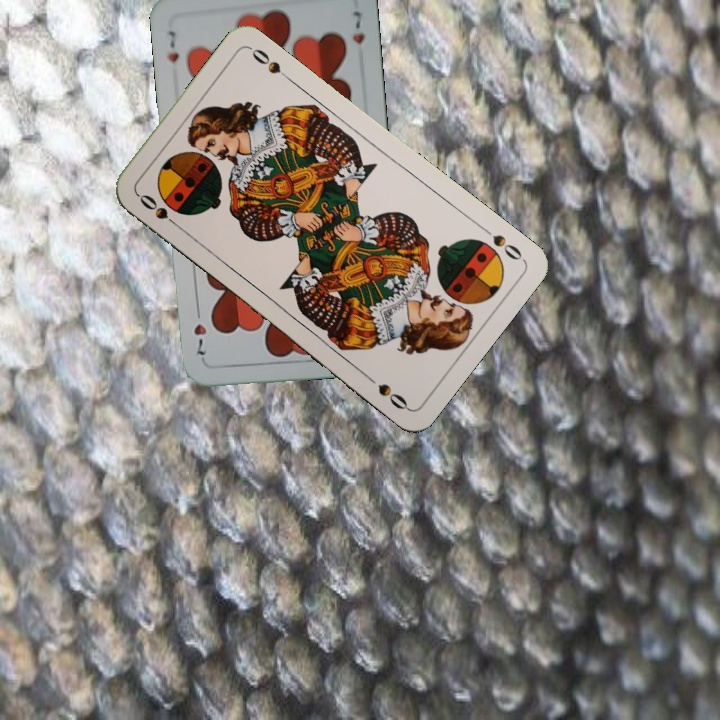H7: (164, 27, 182, 65)
SO: (133, 190, 184, 232), (476, 222, 525, 263)
